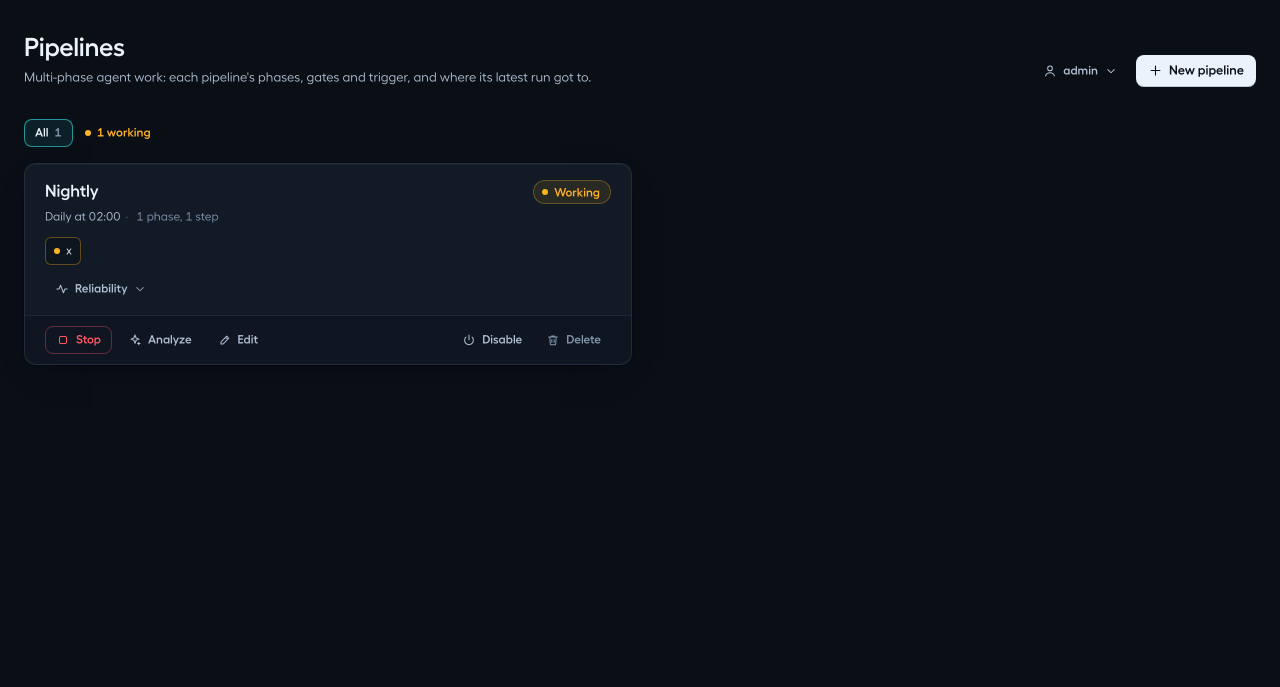
it: Pipelines tab › keeps the edit open and unsaved when the author declines
Click the button "Edit" at (238, 340), box [208, 326, 268, 354]
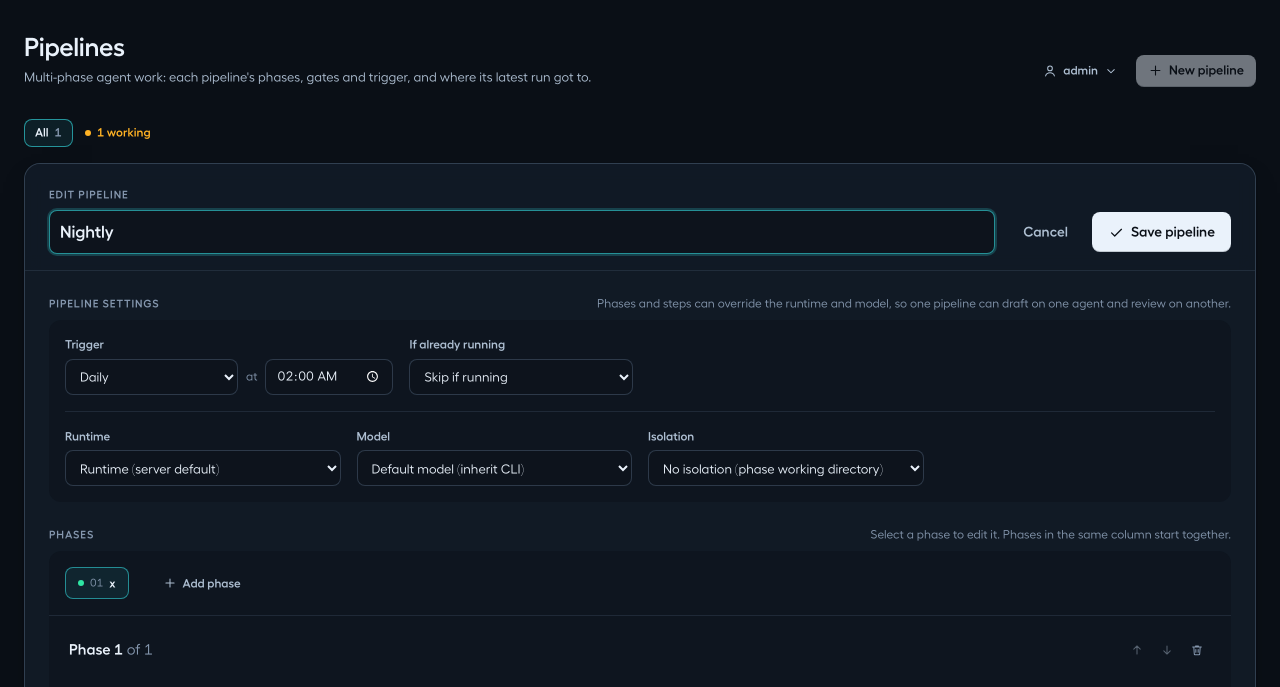
Click the button "Save pipeline" at (1161, 232), box [1092, 212, 1231, 252]
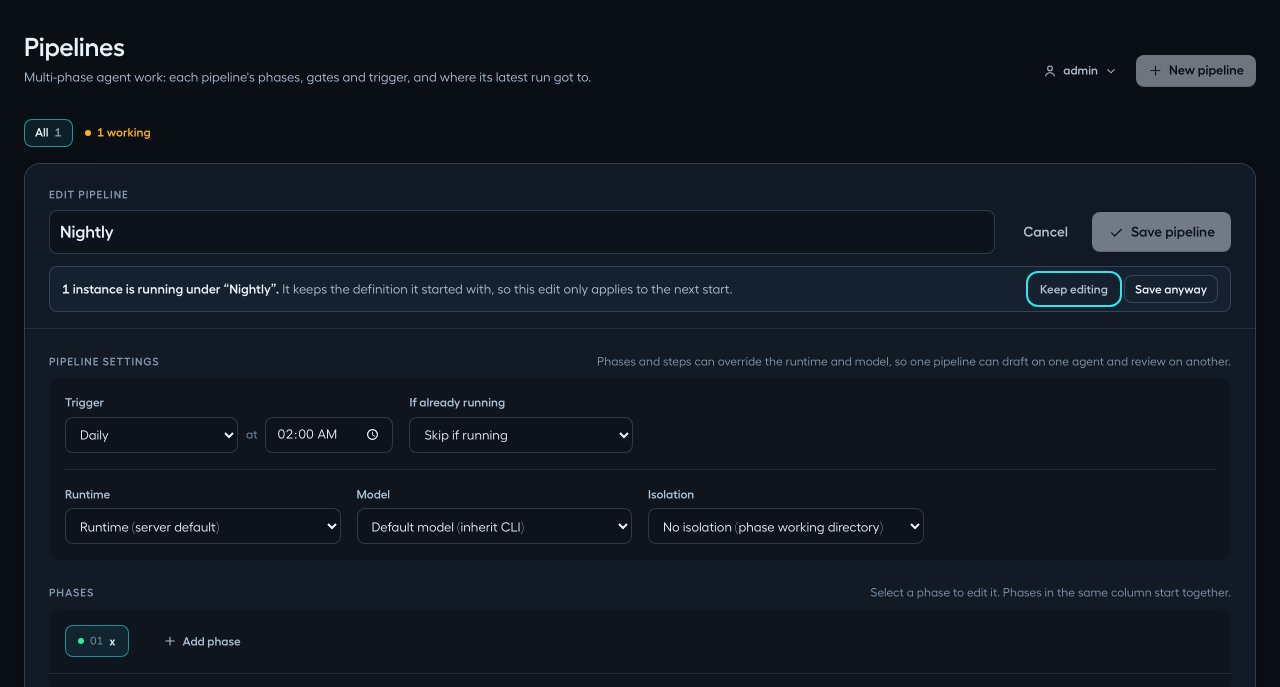
Click the button "Keep editing" at (1074, 289), box [1030, 275, 1118, 303]
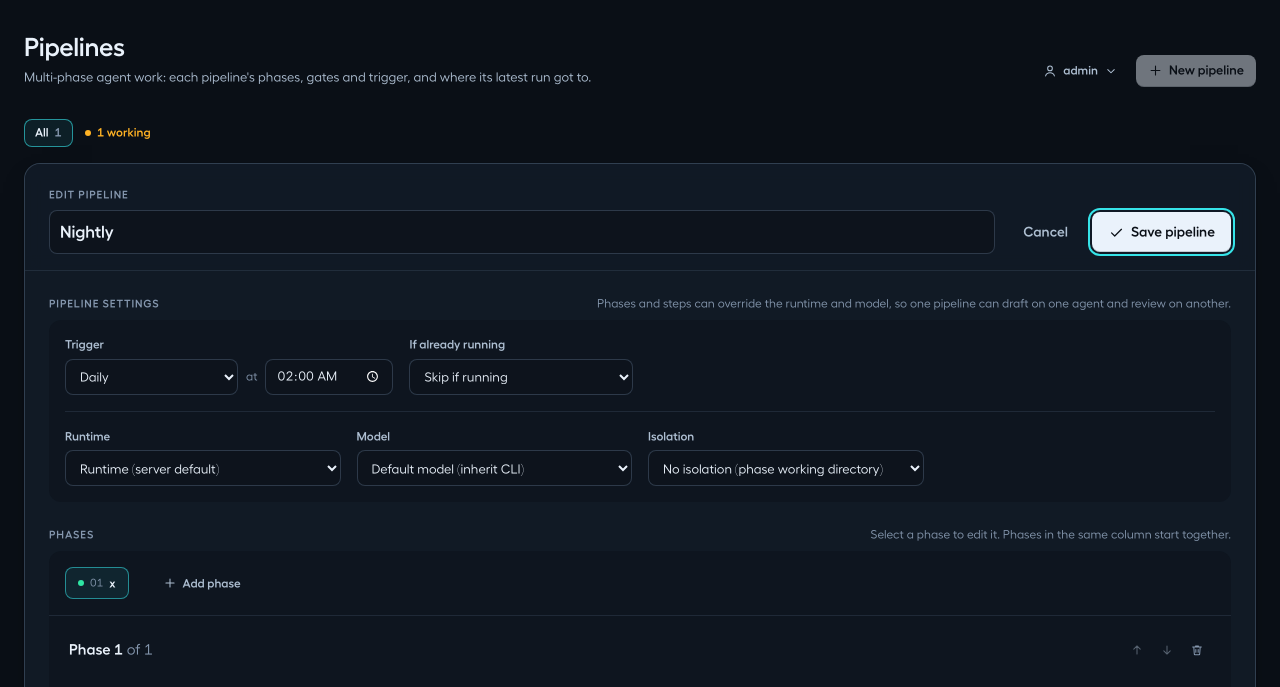
Expected: the text "1 instance is running" is gone
